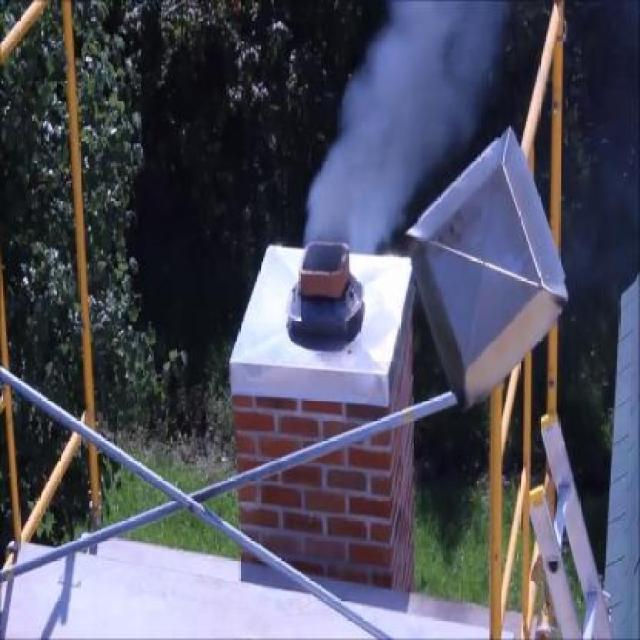smoke: (376, 17, 469, 118), (322, 122, 409, 220)
